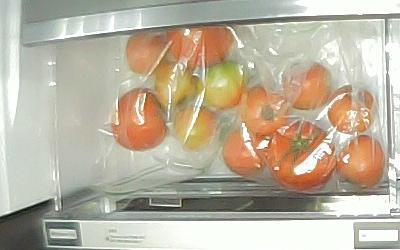tomato_vinyl: (265, 120, 340, 191), (111, 88, 168, 152), (168, 23, 235, 65), (281, 58, 333, 111), (338, 135, 386, 189), (327, 84, 377, 134), (239, 85, 288, 136), (224, 126, 271, 176), (154, 61, 199, 111), (175, 105, 221, 151), (200, 64, 250, 106), (125, 32, 172, 75)
